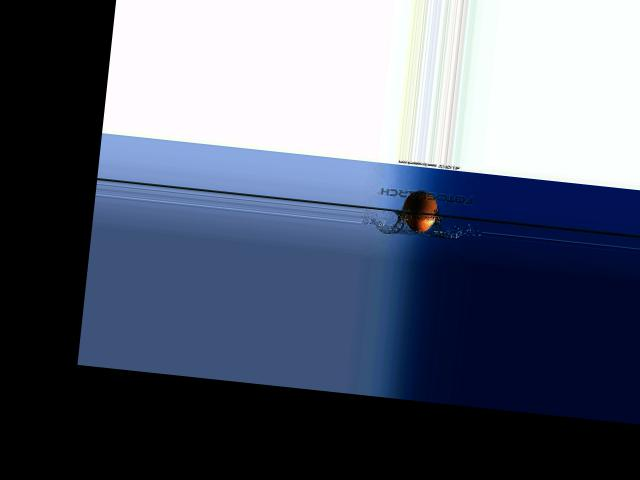egg: (400, 189, 438, 234)
